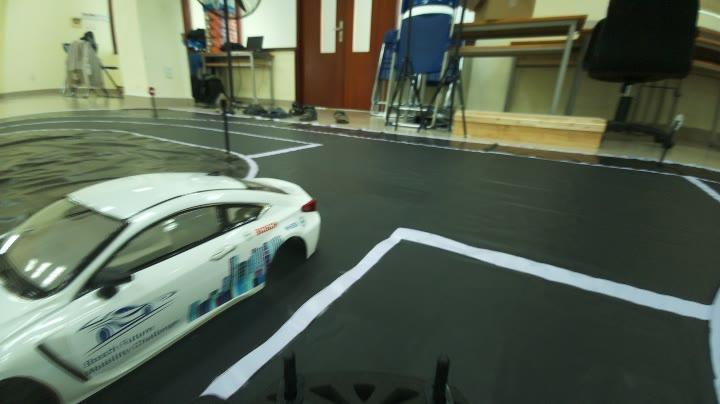car: (4, 162, 325, 380)
